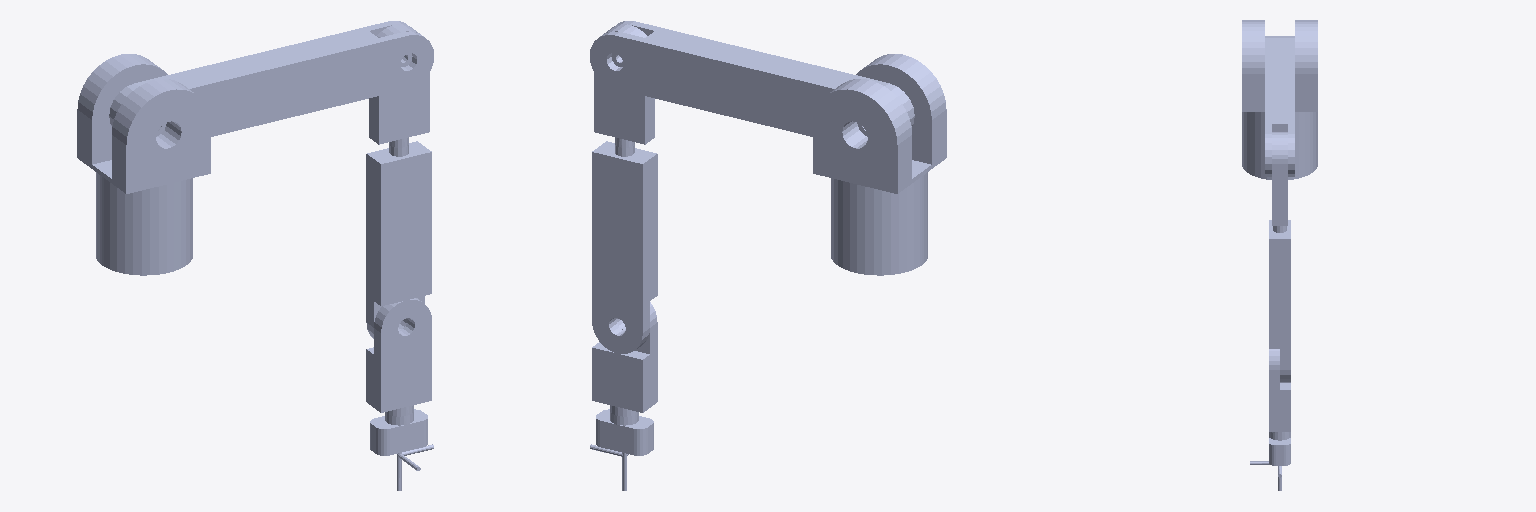
The robot description file, URDF, robot "urdf_testingdoc":
<?xml version="1.0" encoding="utf-8"?>
<!-- This URDF was automatically created by SolidWorks to URDF Exporter! Originally created by [author] ([email redacted]) 
     Commit Version: 1.6.0-4-g7f85cfe  Build Version: 1.6.7995.38578
     For more information, please see http://wiki.ros.org/sw_urdf_exporter -->
<robot
  name="urdf_testingdoc">
  <link
    name="base_link">
    <inertial>
      <origin
        xyz="9.7454E-19 0 0.05"
        rpy="0 0 0" />
      <mass
        value="0.7854" />
      <inertia
        ixx="0.0011454"
        ixy="0"
        ixz="9.1794E-36"
        iyy="0.0011454"
        iyz="3.7944E-36"
        izz="0.00098175" />
    </inertial>
    <visual>
      <origin
        xyz="0 0 0"
        rpy="0 0 0" />
      <geometry>
        <mesh
          filename="package://urdf_testingdoc/meshes/base_link.STL" />
      </geometry>
      <material
        name="">
        <color
          rgba="0.79216 0.81961 0.93333 1" />
      </material>
    </visual>
    <collision>
      <origin
        xyz="0 0 0"
        rpy="0 0 0" />
      <geometry>
        <mesh
          filename="package://urdf_testingdoc/meshes/base_link.STL" />
      </geometry>
    </collision>
  </link>
  <link
    name="Link_1">
    <inertial>
      <origin
        xyz="-1.5371E-17 2.2386E-17 -0.0091527"
        rpy="0 0 0" />
      <mass
        value="0.53967" />
      <inertia
        ixx="0.0011605"
        ixy="1.199E-20"
        ixz="-9.7615E-20"
        iyy="0.00091418"
        iyz="7.9409E-20"
        izz="0.001119" />
    </inertial>
    <visual>
      <origin
        xyz="0 0 0"
        rpy="0 0 0" />
      <geometry>
        <mesh
          filename="package://urdf_testingdoc/meshes/Link_1.STL" />
      </geometry>
      <material
        name="">
        <color
          rgba="0.79216 0.81961 0.93333 1" />
      </material>
    </visual>
    <collision>
      <origin
        xyz="0 0 0"
        rpy="0 0 0" />
      <geometry>
        <mesh
          filename="package://urdf_testingdoc/meshes/Link_1.STL" />
      </geometry>
    </collision>
  </link>
  <joint
    name="Joint_1"
    type="continuous">
    <origin
      xyz="0 0 0.155"
      rpy="0 0 0" />
    <parent
      link="base_link" />
    <child
      link="Link_1" />
    <axis
      xyz="0 0 1" />
  </joint>
  <link
    name="Link_2">
    <inertial>
      <origin
        xyz="0.13864 2.0834E-17 0"
        rpy="0 0 0" />
      <mass
        value="0.74997" />
      <inertia
        ixx="0.00032961"
        ixy="-5.873E-20"
        ixz="3.0918E-20"
        iyy="0.0066953"
        iyz="2.7209E-21"
        izz="0.0065773" />
    </inertial>
    <visual>
      <origin
        xyz="0 0 0"
        rpy="0 0 0" />
      <geometry>
        <mesh
          filename="package://urdf_testingdoc/meshes/Link_2.STL" />
      </geometry>
      <material
        name="">
        <color
          rgba="0.79216 0.81961 0.93333 1" />
      </material>
    </visual>
    <collision>
      <origin
        xyz="0 0 0"
        rpy="0 0 0" />
      <geometry>
        <mesh
          filename="package://urdf_testingdoc/meshes/Link_2.STL" />
      </geometry>
    </collision>
  </link>
  <joint
    name="Joint_2"
    type="continuous">
    <origin
      xyz="0 0 0"
      rpy="0 0 0" />
    <parent
      link="Link_1" />
    <child
      link="Link_2" />
    <axis
      xyz="0 -1 0" />
  </joint>
  <link
    name="Link_3">
    <inertial>
      <origin
        xyz="0 1.667E-17 -0.03481"
        rpy="0 0 0" />
      <mass
        value="0.13785" />
      <inertia
        ixx="0.00016386"
        ixy="-1.2466E-20"
        ixz="4.1059E-20"
        iyy="0.00019813"
        iyz="-1.3191E-21"
        izz="4.3399E-05" />
    </inertial>
    <visual>
      <origin
        xyz="0 0 0"
        rpy="0 0 0" />
      <geometry>
        <mesh
          filename="package://urdf_testingdoc/meshes/Link_3.STL" />
      </geometry>
      <material
        name="">
        <color
          rgba="0.79216 0.81961 0.93333 1" />
      </material>
    </visual>
    <collision>
      <origin
        xyz="0 0 0"
        rpy="0 0 0" />
      <geometry>
        <mesh
          filename="package://urdf_testingdoc/meshes/Link_3.STL" />
      </geometry>
    </collision>
  </link>
  <joint
    name="Joint_3"
    type="continuous">
    <origin
      xyz="0.3 0 0"
      rpy="0 0 0" />
    <parent
      link="Link_2" />
    <child
      link="Link_3" />
    <axis
      xyz="0 -1 0" />
  </joint>
  <link
    name="Link_4">
    <inertial>
      <origin
        xyz="0 0.00097479 -0.1031"
        rpy="0 0 0" />
      <mass
        value="0.33463" />
      <inertia
        ixx="0.0011137"
        ixy="-6.1196E-21"
        ixz="-3.057E-19"
        iyy="0.0011883"
        iyz="3.0598E-05"
        izz="0.00012385" />
    </inertial>
    <visual>
      <origin
        xyz="0 0 0"
        rpy="0 0 0" />
      <geometry>
        <mesh
          filename="package://urdf_testingdoc/meshes/Link_4.STL" />
      </geometry>
      <material
        name="">
        <color
          rgba="0.79216 0.81961 0.93333 1" />
      </material>
    </visual>
    <collision>
      <origin
        xyz="0 0 0"
        rpy="0 0 0" />
      <geometry>
        <mesh
          filename="package://urdf_testingdoc/meshes/Link_4.STL" />
      </geometry>
    </collision>
  </link>
  <joint
    name="Joint_4"
    type="continuous">
    <origin
      xyz="0 0 -0.1"
      rpy="0 0 0" />
    <parent
      link="Link_3" />
    <child
      link="Link_4" />
    <axis
      xyz="0 0 -1" />
  </joint>
  <link
    name="Link_5">
    <inertial>
      <origin
        xyz="0 -0.0020572 -0.045954"
        rpy="0 0 0" />
      <mass
        value="0.15856" />
      <inertia
        ixx="0.00017405"
        ixy="-1.8717E-20"
        ixz="-6.649E-20"
        iyy="0.00020851"
        iyz="1.3978E-05"
        izz="5.664E-05" />
    </inertial>
    <visual>
      <origin
        xyz="0 0 0"
        rpy="0 0 0" />
      <geometry>
        <mesh
          filename="package://urdf_testingdoc/meshes/Link_5.STL" />
      </geometry>
      <material
        name="">
        <color
          rgba="0.79216 0.81961 0.93333 1" />
      </material>
    </visual>
    <collision>
      <origin
        xyz="0 0 0"
        rpy="0 0 0" />
      <geometry>
        <mesh
          filename="package://urdf_testingdoc/meshes/Link_5.STL" />
      </geometry>
    </collision>
  </link>
  <joint
    name="Joint_5"
    type="continuous">
    <origin
      xyz="0 0 -0.2"
      rpy="0 0 0" />
    <parent
      link="Link_4" />
    <child
      link="Link_5" />
    <axis
      xyz="0 1 0" />
  </joint>
  <link
    name="end_point">
    <inertial>
      <origin
        xyz="0.00025683 -0.00025684 -0.023934"
        rpy="0 0 0" />
      <mass
        value="0.06096" />
      <inertia
        ixx="1.3816E-05"
        ixy="-4.0305E-09"
        ixz="4.081E-07"
        iyy="2.44E-05"
        iyz="-4.0811E-07"
        izz="1.9457E-05" />
    </inertial>
    <visual>
      <origin
        xyz="0 0 0"
        rpy="0 0 0" />
      <geometry>
        <mesh
          filename="package://urdf_testingdoc/meshes/end_point.STL" />
      </geometry>
      <material
        name="">
        <color
          rgba="0.79216 0.81961 0.93333 1" />
      </material>
    </visual>
    <collision>
      <origin
        xyz="0 0 0"
        rpy="0 0 0" />
      <geometry>
        <mesh
          filename="package://urdf_testingdoc/meshes/end_point.STL" />
      </geometry>
    </collision>
  </link>
  <joint
    name="Joint_6"
    type="continuous">
    <origin
      xyz="0 0 -0.1"
      rpy="0 0 0" />
    <parent
      link="Link_5" />
    <child
      link="end_point" />
    <axis
      xyz="0 0 -1" />
  </joint>
</robot>

--- Facts derived from the render (not from the file) ---
The picture shows the robot from 3 angles, left to right: view 1: azimuth 30°, elevation 25°; view 2: azimuth 150°, elevation 25°; view 3: azimuth 270°, elevation 25°; orthographic projection.
Model urdf_testingdoc with 7 links and 6 joints (6 continuous), rooted at base_link, posed all joints at 0.
Visible links, largest first — view 1: Link_2, Link_1, Link_4, base_link, Link_5, Link_3, end_point; view 2: Link_2, Link_1, Link_4, base_link, Link_5, Link_3, end_point; view 3: Link_1, Link_2, Link_4, base_link, Link_3, Link_5, end_point.
Link boxes in pixels (x1=…): Link_2: x1=109, y1=21, x2=433, y2=136; Link_1: x1=77, y1=54, x2=210, y2=193; Link_4: x1=366, y1=141, x2=431, y2=338; base_link: x1=96, y1=172, x2=192, y2=275; Link_5: x1=366, y1=298, x2=431, y2=416; Link_3: x1=369, y1=24, x2=429, y2=147; end_point: x1=370, y1=409, x2=433, y2=490; Link_2: x1=590, y1=21, x2=914, y2=136; Link_1: x1=813, y1=54, x2=946, y2=193; Link_4: x1=592, y1=141, x2=657, y2=353; base_link: x1=831, y1=172, x2=927, y2=275; Link_5: x1=592, y1=302, x2=657, y2=416; Link_3: x1=594, y1=24, x2=654, y2=147; end_point: x1=590, y1=409, x2=653, y2=490; Link_1: x1=1242, y1=20, x2=1317, y2=111; Link_2: x1=1265, y1=36, x2=1294, y2=176; Link_4: x1=1269, y1=220, x2=1290, y2=382; base_link: x1=1242, y1=112, x2=1317, y2=179; Link_3: x1=1272, y1=132, x2=1287, y2=225; Link_5: x1=1269, y1=349, x2=1290, y2=433; end_point: x1=1250, y1=432, x2=1290, y2=490.
Bounding box of the posed robot: 0.39 × 0.1 × 0.54 m (x, y, z).
Meshes: 7 distinct files referenced, 7 mesh visuals loaded (7 binary STL).